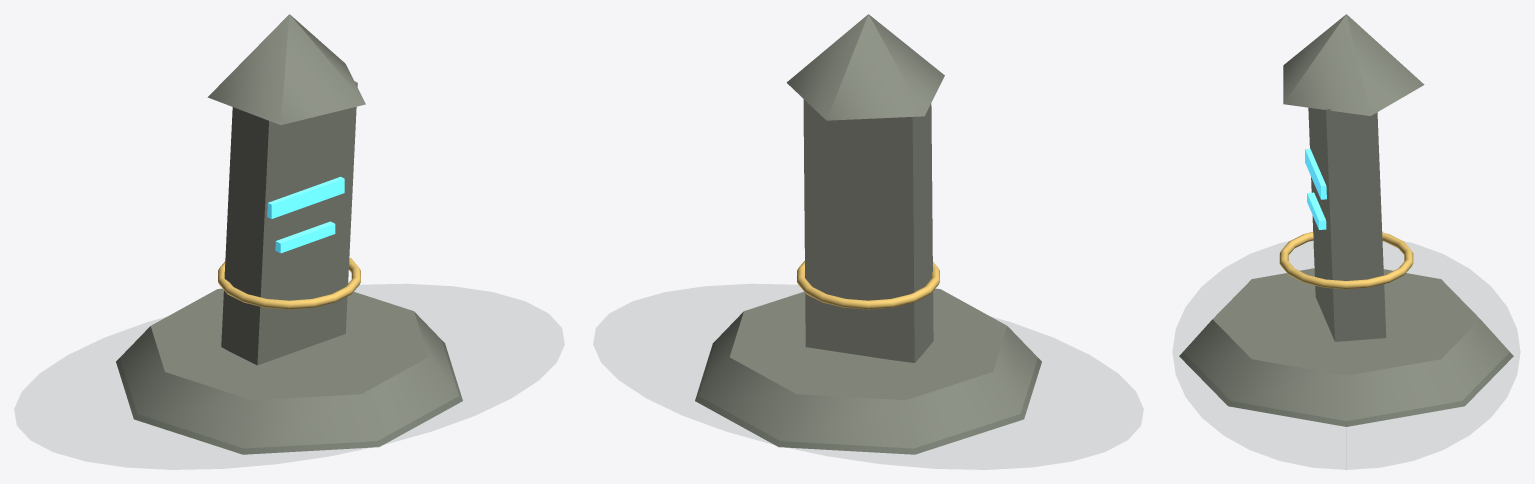
File: named_landmark.glb
The picture shows the model from 3 angles, left to right: view 1: azimuth 30°, elevation 25°; view 2: azimuth 150°, elevation 25°; view 3: azimuth 270°, elevation 25°; orthographic projection. The views are drawn at different scales.
Parts seen in each view (by area): view 1: named_landmark_base, named_landmark_upright, soft_ground_shadow, named_landmark_cap, named_landmark_wrap, named_landmark_name_plate, named_landmark_second_line; view 2: named_landmark_base, named_landmark_upright, soft_ground_shadow, named_landmark_cap, named_landmark_wrap; view 3: named_landmark_base, soft_ground_shadow, named_landmark_upright, named_landmark_cap, named_landmark_wrap, named_landmark_name_plate, named_landmark_second_line.
Boxes of the visible parts, x1,y1,x2,y2 form: named_landmark_base: (116,288,462,454); named_landmark_upright: (221,80,357,365); soft_ground_shadow: (15,284,563,469); named_landmark_cap: (207,14,365,125); named_landmark_wrap: (218,257,360,309); named_landmark_name_plate: (267,176,344,218); named_landmark_second_line: (275,221,335,253); named_landmark_base: (695,288,1041,454); named_landmark_upright: (803,99,933,362); soft_ground_shadow: (594,284,1142,469); named_landmark_cap: (786,14,944,120); named_landmark_wrap: (797,261,939,309); named_landmark_base: (1179,268,1513,426); soft_ground_shadow: (1173,241,1519,469); named_landmark_upright: (1308,107,1386,341); named_landmark_cap: (1283,14,1424,115); named_landmark_wrap: (1279,232,1413,289); named_landmark_name_plate: (1305,148,1326,199); named_landmark_second_line: (1307,192,1326,229).
Size of the model in its own units: 3 by 2.03 by 1.87.
